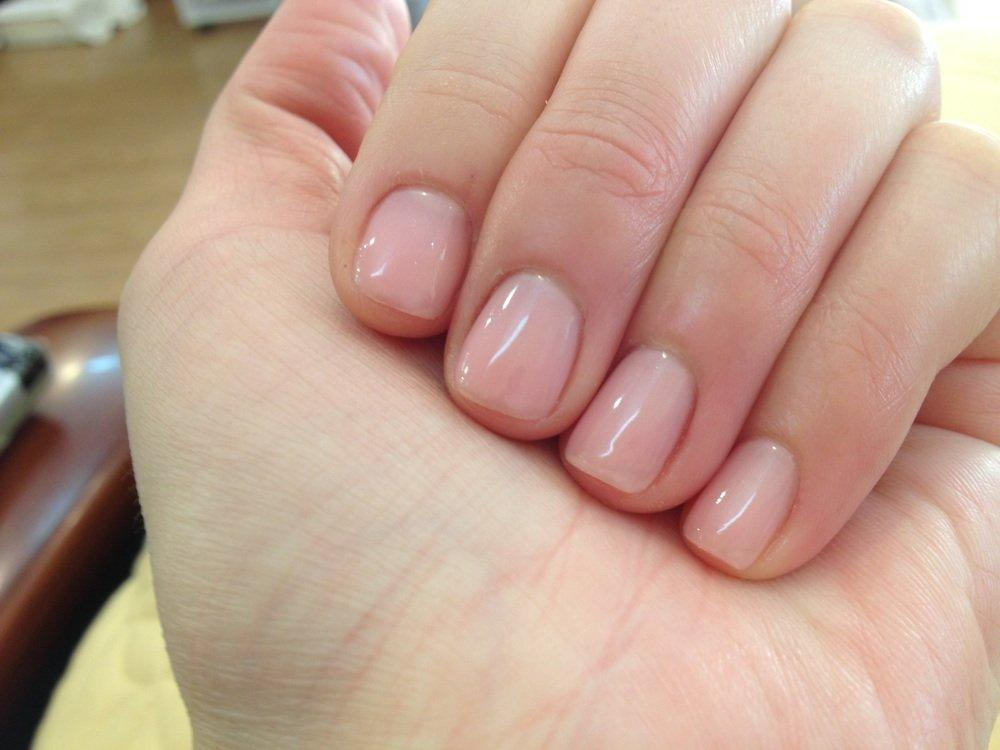nails: (558, 338, 701, 496), (448, 263, 587, 424), (340, 168, 473, 323), (679, 427, 803, 576)
